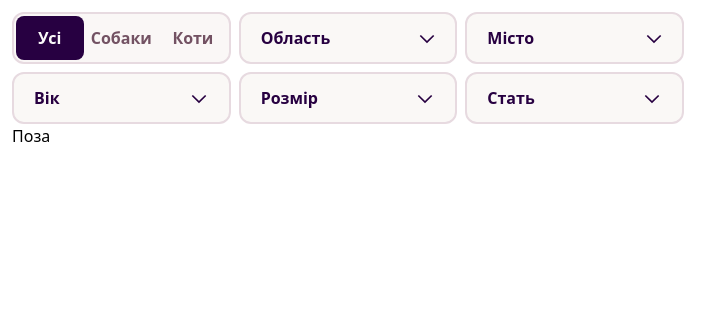
it: GalleryFilterDropdowns › puts the count in each pill's name and on the pill itself
Click the button with aria-label "Вік: Вік" at {"x": 121, "y": 98}, box [12, 72, 231, 124]
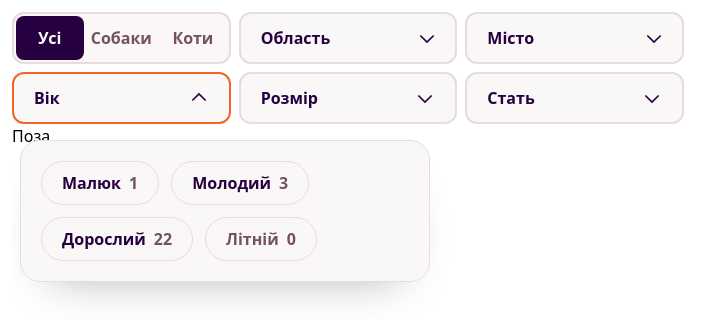
Expected: the button with aria-label "Дорослий, 22 тварини" reads "Дорослий 22", [41, 217, 193, 261]
